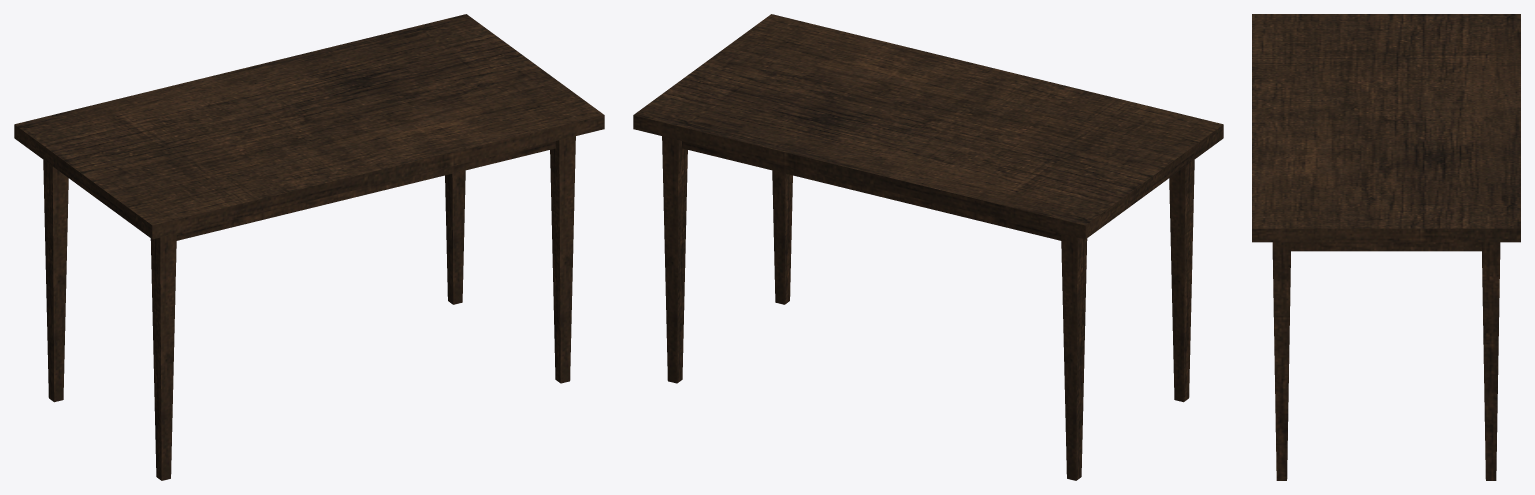
File: table_large_2_1.obj
3 views of the same model, side by side, from view 1: azimuth 30°, elevation 25°; view 2: azimuth 150°, elevation 25°; view 3: azimuth 270°, elevation 25° (orthographic). The views are drawn at different scales.
Parts seen in each view (by area): view 1: table_large_2_1; view 2: table_large_2_1; view 3: table_large_2_1.
Part boxes in pixels (<box>): table_large_2_1: <box>14,14,604,480</box>; table_large_2_1: <box>633,14,1223,480</box>; table_large_2_1: <box>1252,14,1520,480</box>.
Bounding box in the file's own units: 1.7 × 0.97 × 0.9.
